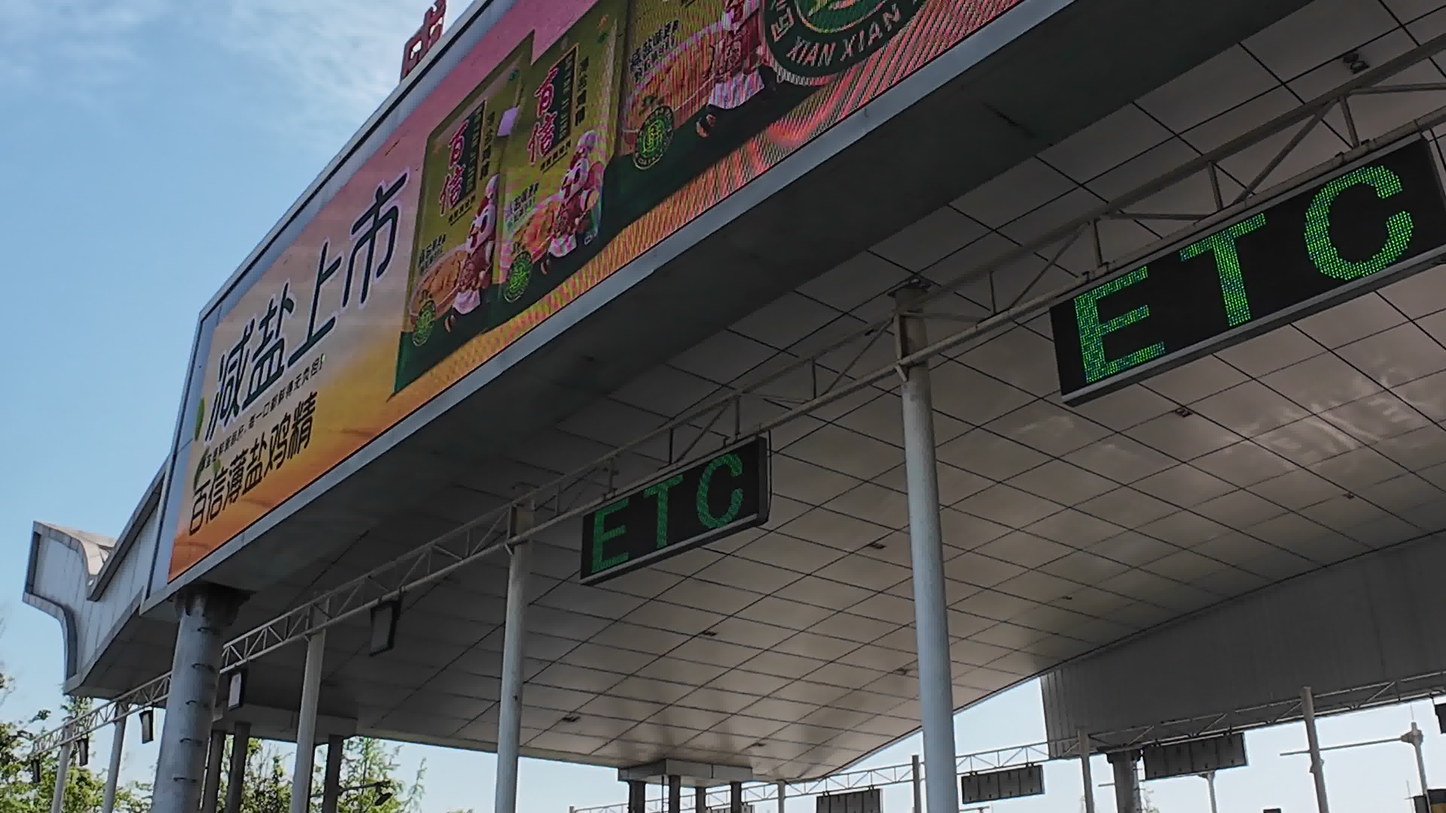led_screen: (145, 0, 1020, 607), (1064, 131, 1438, 411), (573, 430, 774, 576), (1137, 734, 1253, 783), (959, 768, 1049, 808), (360, 592, 401, 658), (224, 661, 251, 721), (134, 703, 156, 752), (71, 738, 94, 772)
